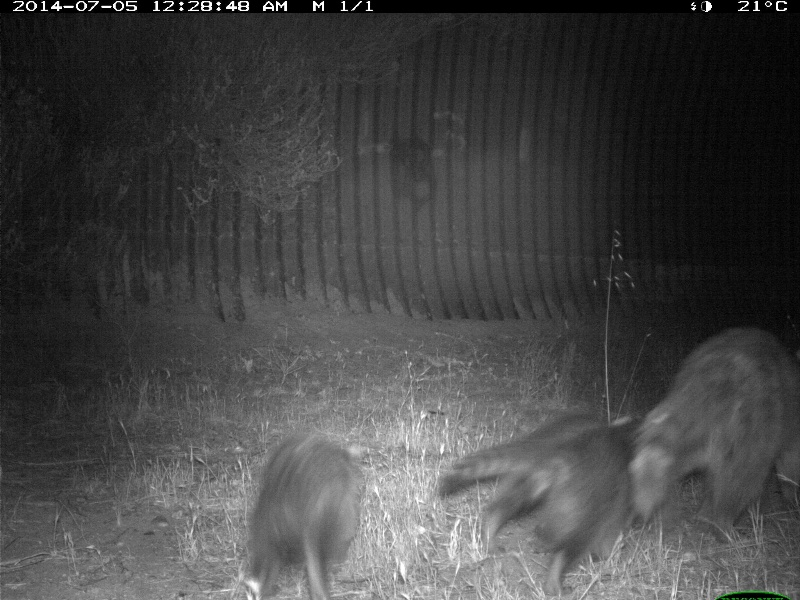raccoon: (431, 401, 654, 595), (635, 325, 800, 535)
